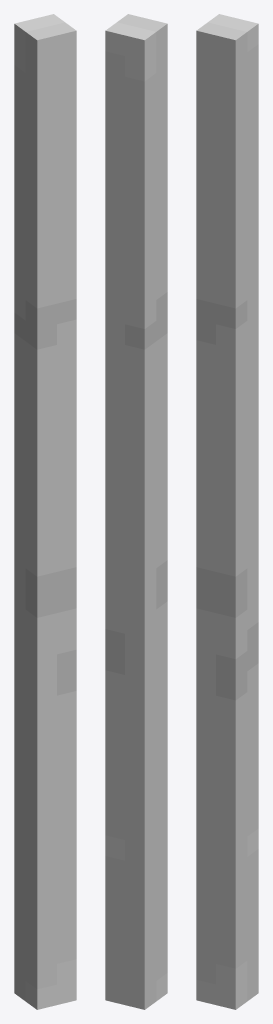
File: weaponsshields-24.obj
3 views of the same model, side by side, from view 1: azimuth 30°, elevation 25°; view 2: azimuth 150°, elevation 25°; view 3: azimuth 330°, elevation 25° (orthographic).
Parts seen in each view (by area): view 1: weaponsshields-24; view 2: weaponsshields-24; view 3: weaponsshields-24.
Part boxes in pixels (x1=…): weaponsshields-24: x1=14, y1=14, x2=76, y2=1009; weaponsshields-24: x1=105, y1=14, x2=167, y2=1009; weaponsshields-24: x1=196, y1=14, x2=258, y2=1009.
Size of the model in its own units: 2 by 47 by 2.
Materials: 1 (1 with a texture image).
